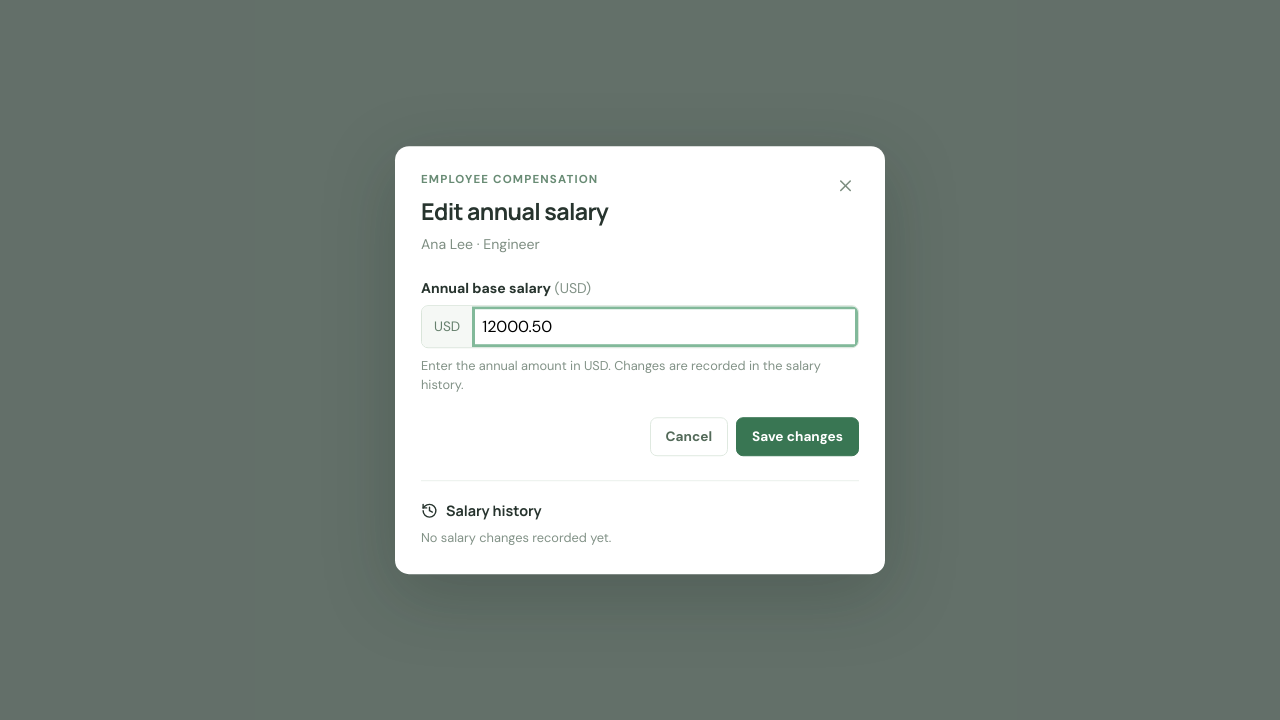
Test case: salary editing › handles a conflicting update by loading the latest version
Click the button "Save changes": {"x": 798, "y": 437} [736,418,859,457]
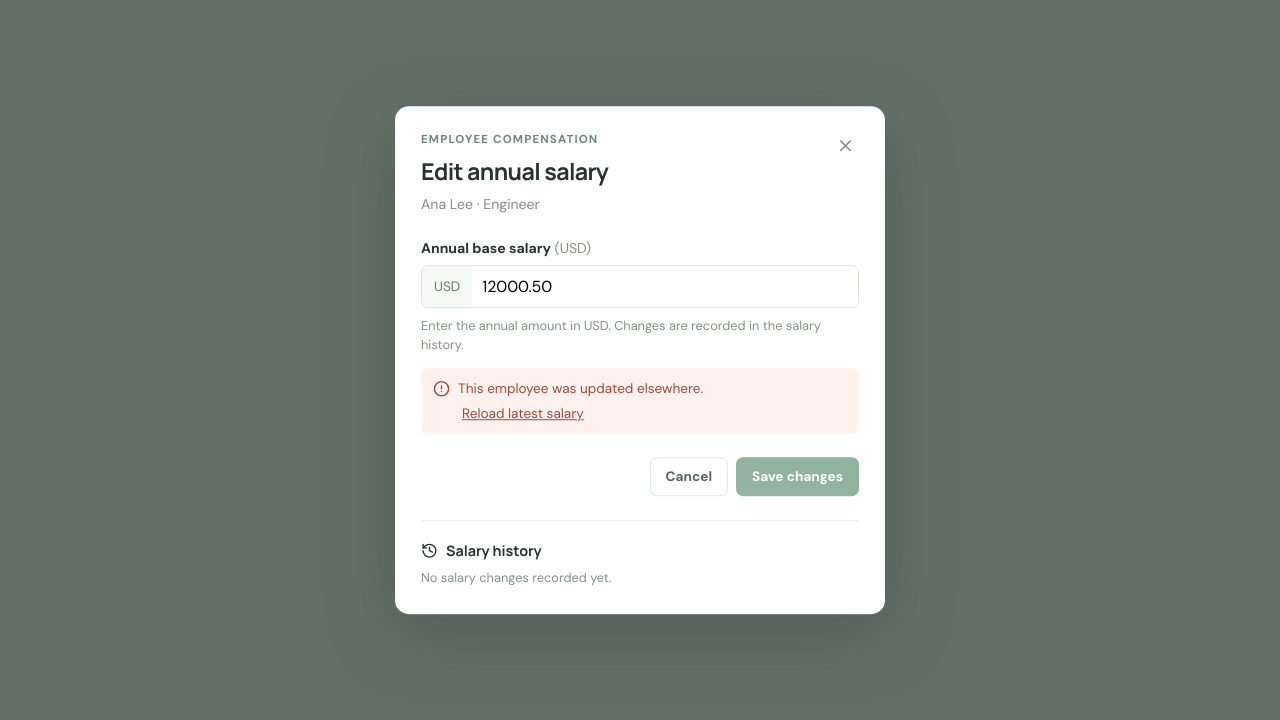
Click the button "Reload latest salary": {"x": 523, "y": 414} [458,406,588,423]
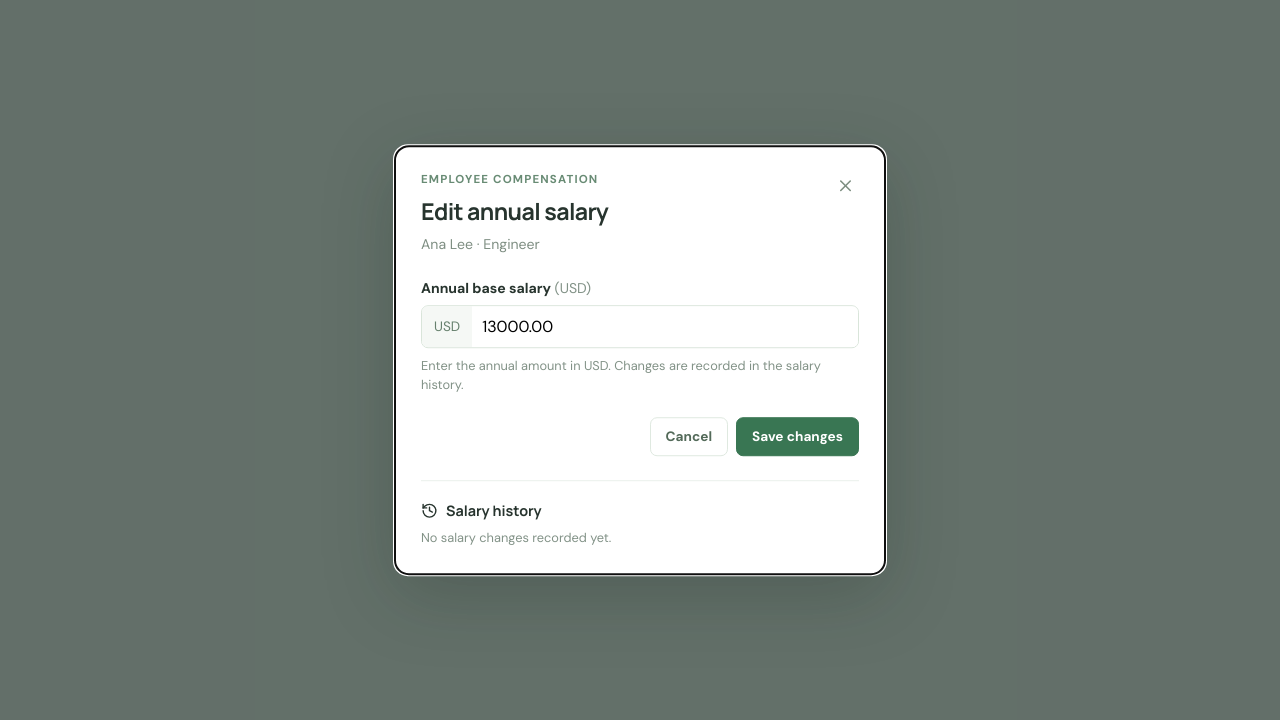
Result: the field labelled "Annual base salary (USD)" holds "13000.00" at [472,306,858,347]
